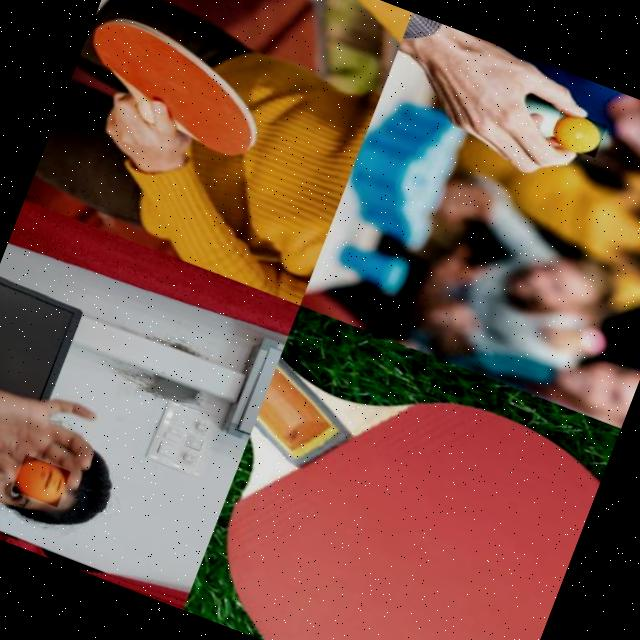ping-pong-ball: (9, 454, 70, 508), (546, 107, 606, 159)
